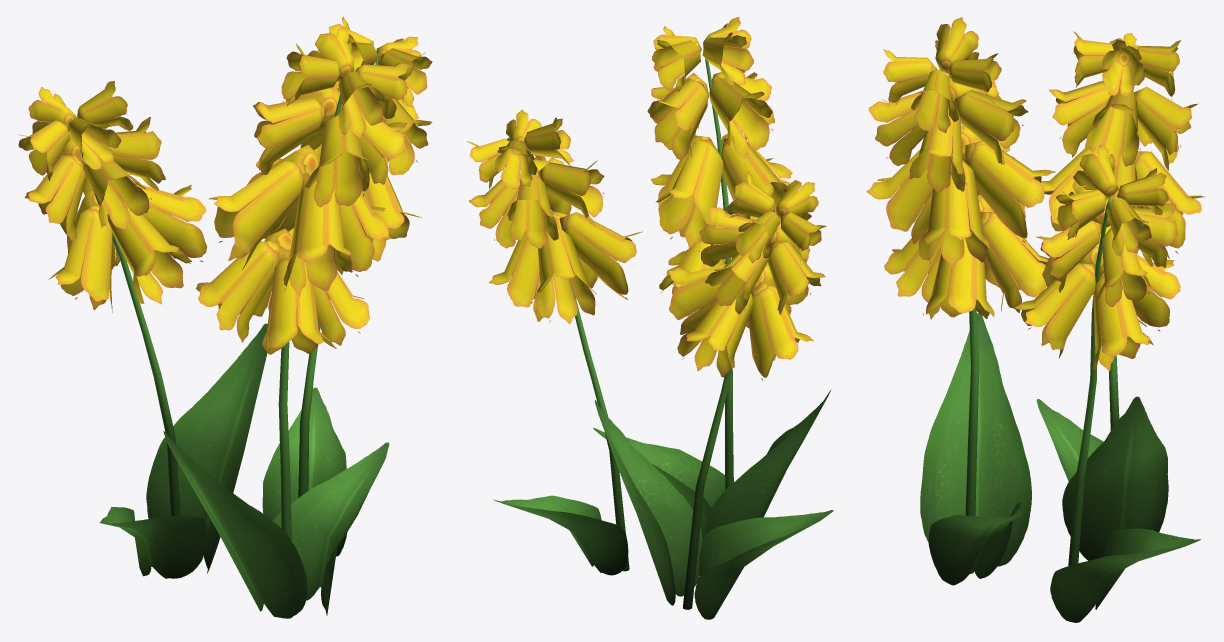
File: Flower_4_Group.gltf
3 renders of one model, left to right at view 1: azimuth 30°, elevation 25°; view 2: azimuth 150°, elevation 25°; view 3: azimuth 270°, elevation 25°, orthographic. The views are drawn at different scales.
Visible parts, largest first — view 1: Flower_4_Group; view 2: Flower_4_Group; view 3: Flower_4_Group.
Part boxes in pixels (left/top/right/bottom): Flower_4_Group: left=17, top=17, right=432, bottom=618; Flower_4_Group: left=467, top=17, right=833, bottom=619; Flower_4_Group: left=866, top=17, right=1205, bottom=622.
Bounding box in the file's own units: 1.78 × 2.49 × 1.37.
Materials: 2 (2 with a texture image).
